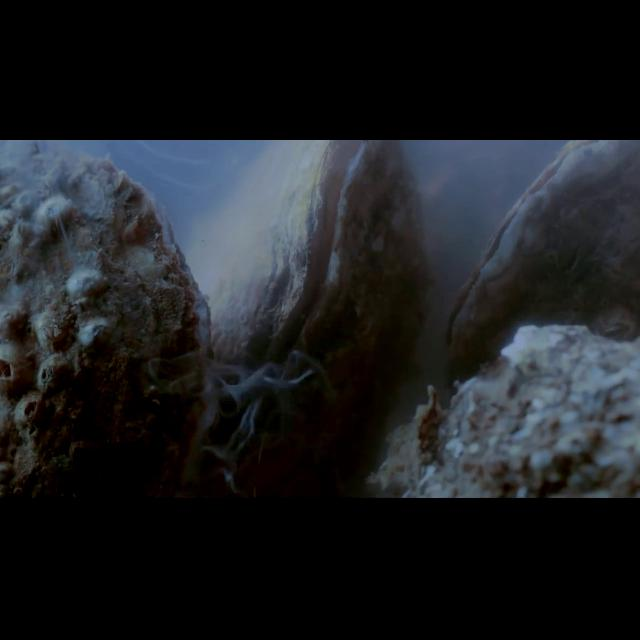Oyster-Closed: (0, 143, 215, 496), (438, 141, 638, 367)
Oyster-Open: (182, 142, 436, 493)
